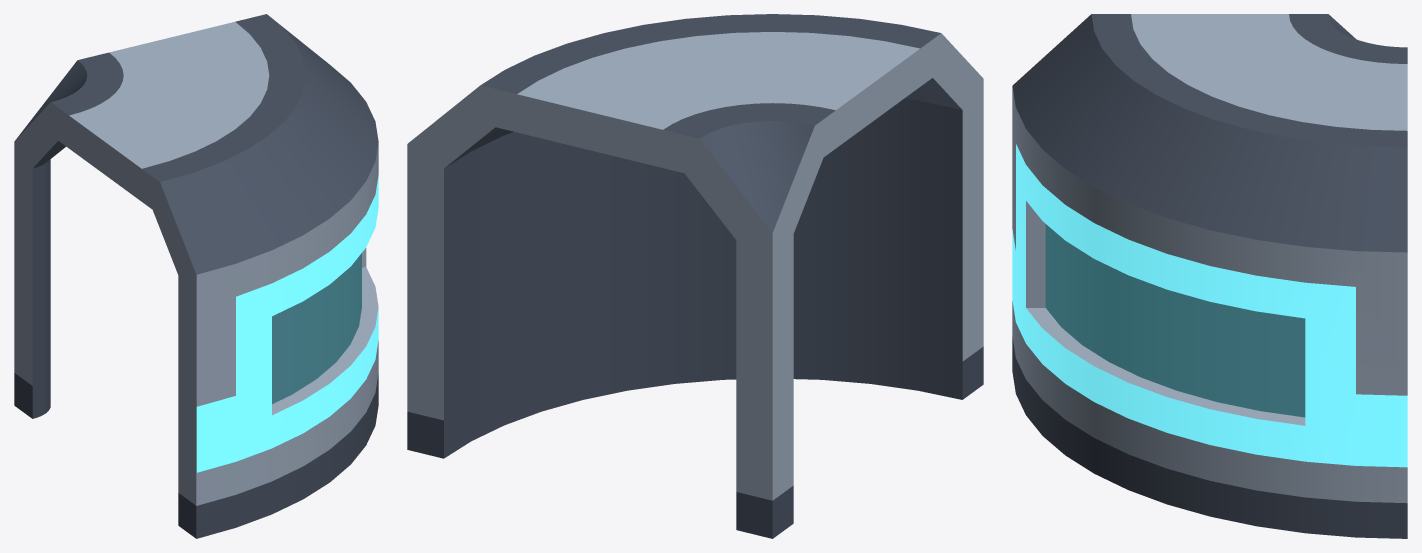
The model's file is corridor_cornerRoundWindow.glb.
The picture shows the model from 3 angles, left to right: view 1: azimuth 30°, elevation 25°; view 2: azimuth 150°, elevation 25°; view 3: azimuth 270°, elevation 25°; orthographic projection. The views are drawn at different scales.
Visible parts, largest first — view 1: corridor_cornerRoundWindow; view 2: corridor_cornerRoundWindow; view 3: corridor_cornerRoundWindow.
Part boxes in pixels (x1,y1,x2,y2): corridor_cornerRoundWindow: (14,14,378,538); corridor_cornerRoundWindow: (407,14,983,538); corridor_cornerRoundWindow: (1012,14,1407,538).
Size of the model in its own units: 1 by 1 by 1.
